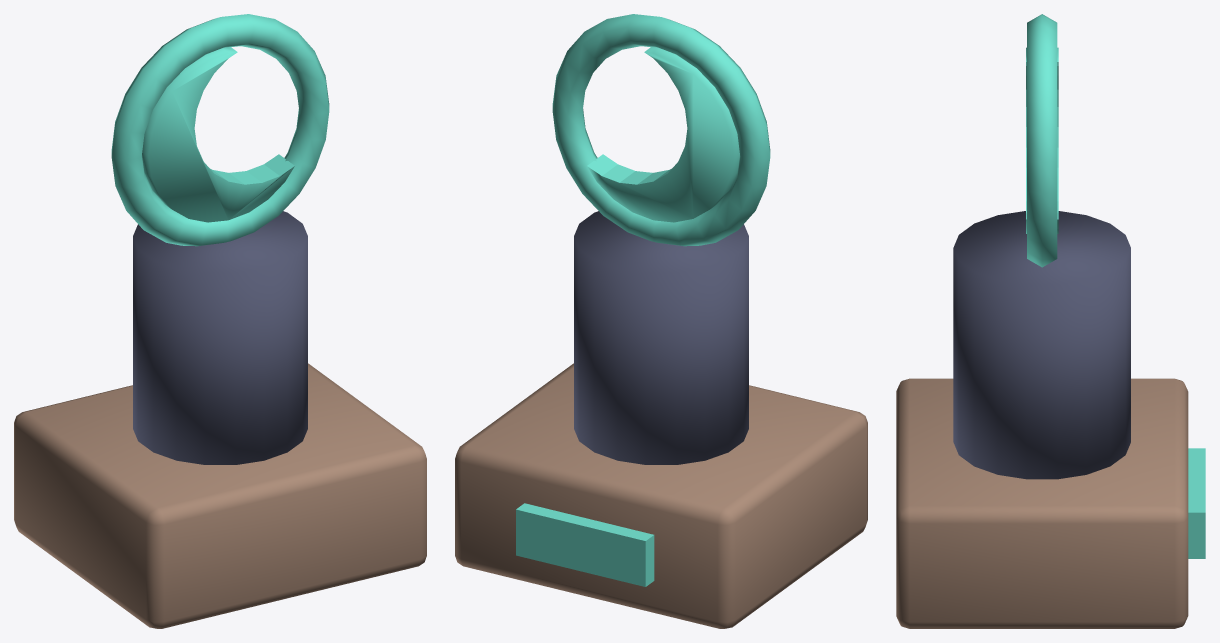
The model's file is FestivalMoon.fbx.
3 renders of one model, left to right at view 1: azimuth 30°, elevation 25°; view 2: azimuth 150°, elevation 25°; view 3: azimuth 270°, elevation 25°, orthographic.
Visible parts, largest first — view 1: FestivalMoon Wood__Wood, FestivalMoon Dark__Dark, FestivalMoon Mint__Mint; view 2: FestivalMoon Wood__Wood, FestivalMoon Dark__Dark, FestivalMoon Mint__Mint; view 3: FestivalMoon Wood__Wood, FestivalMoon Dark__Dark, FestivalMoon Mint__Mint.
Part boxes in pixels (bbox=[...]): FestivalMoon Wood__Wood: bbox=[14, 363, 426, 628]; FestivalMoon Dark__Dark: bbox=[133, 211, 307, 464]; FestivalMoon Mint__Mint: bbox=[111, 14, 329, 246]; FestivalMoon Wood__Wood: bbox=[455, 363, 867, 628]; FestivalMoon Dark__Dark: bbox=[574, 211, 748, 464]; FestivalMoon Mint__Mint: bbox=[516, 14, 770, 586]; FestivalMoon Wood__Wood: bbox=[896, 378, 1188, 628]; FestivalMoon Dark__Dark: bbox=[953, 211, 1130, 479]; FestivalMoon Mint__Mint: bbox=[1026, 14, 1205, 558].
Bounding box in the file's own units: 140 × 255 × 132.
